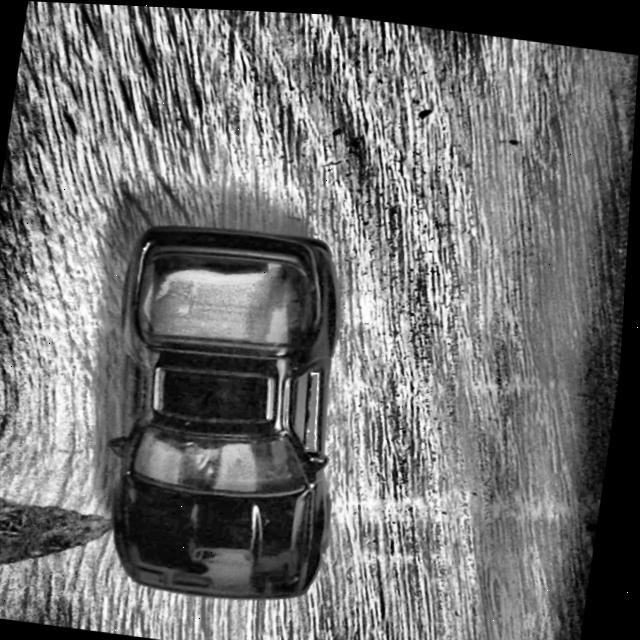car: (88, 211, 377, 610)
